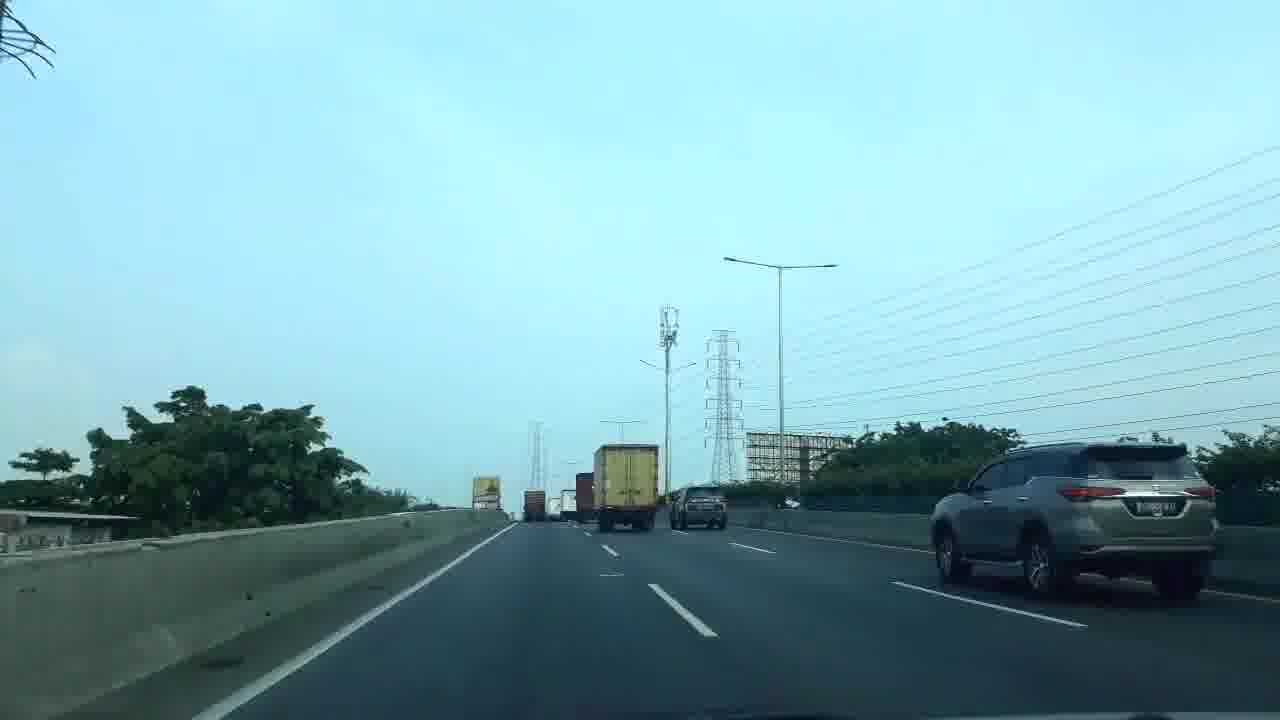plate_positive: (1136, 501, 1176, 517)
